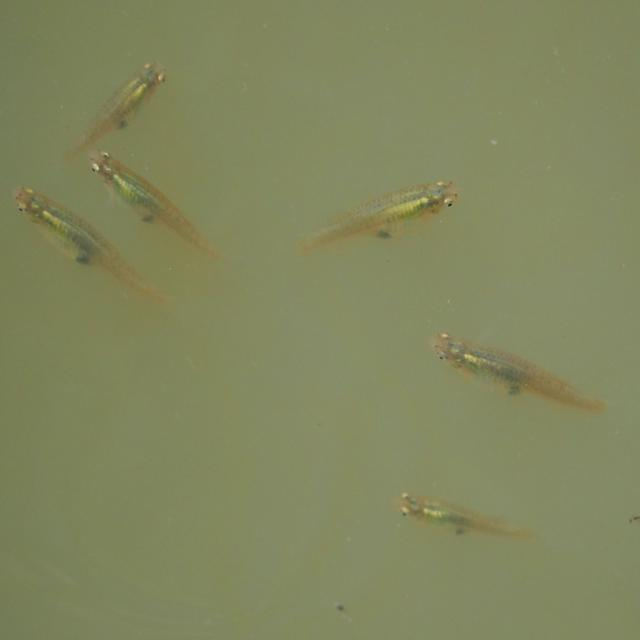Sivrisinek Baligi: (16, 183, 172, 309), (91, 150, 230, 266), (429, 329, 610, 417), (293, 174, 457, 255), (59, 58, 168, 159), (393, 489, 542, 546)
